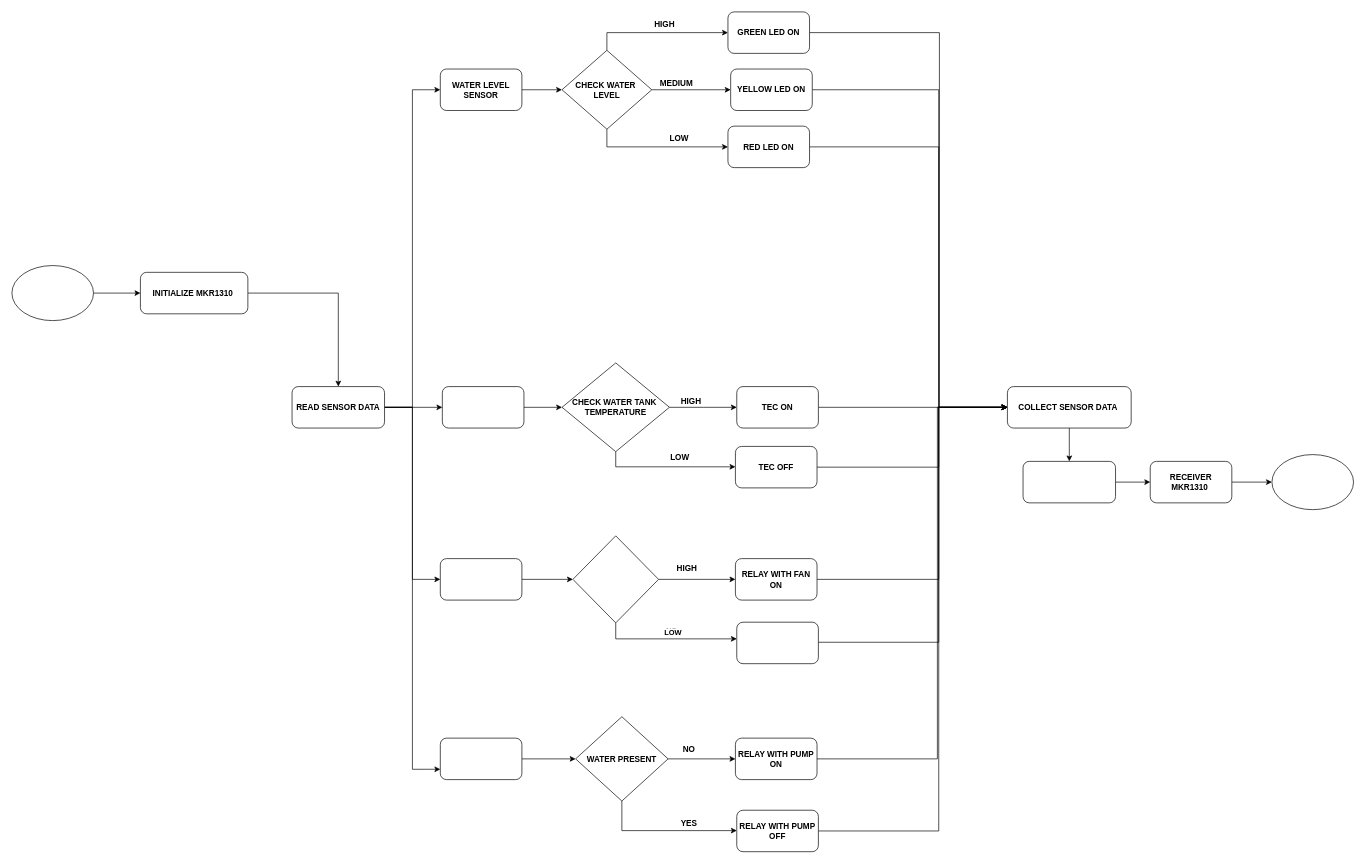
This 1365x864 diagram has some shape labels left out. Here are the shapes that lost their labels. From the top down, the centre of each, then its label:
the point at 52,293: START
the point at 483,407: TEMPERATURE PROBE SENSOR
the point at 1069,482: SEND SENSOR DATA WITH LORA
the point at 1312,482: END
the point at 481,579: DHT22 SENSOR
the point at 615,579: CHECK TEMPERATURE
the point at 777,643: RELAY WITH FAN OFF
the point at 481,758: SOIL MOISTURE SENSOR
